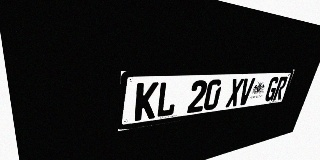0: (202, 79, 223, 111)
2: (187, 80, 208, 113)
G: (264, 77, 280, 102)
K: (134, 82, 159, 121)
L: (155, 81, 179, 118)
R: (272, 76, 288, 100)
V: (237, 78, 255, 106)
X: (225, 78, 244, 108)
